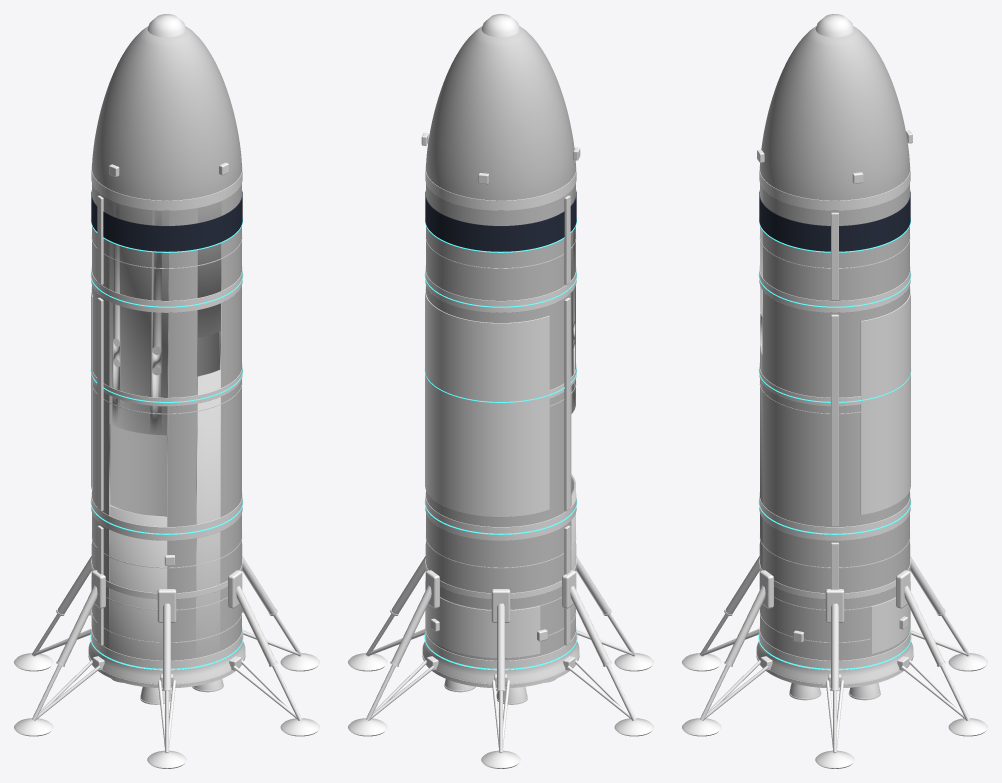
The model's file is starter_ship_46a9346_exterior.glb.
The picture shows the model from 3 angles, left to right: view 1: azimuth 30°, elevation 25°; view 2: azimuth 150°, elevation 25°; view 3: azimuth 270°, elevation 25°; orthographic projection.
Parts seen in each view (by area): view 1: Hull.001, Nose.001, SolarBand.001, AftSkirt.001, SteelBand.008, SteelBand.010, SteelBand.011, Raceway.010, SteelBand.006, SteelBand.009, SteelBand.007, LegStrut_body.009 (+11 smaller); view 2: Hull.001, RadiatorTiles.001, Nose.001, AftTilesBack.001, SolarBand.001, AftSkirt.001, SteelBand.008, SteelBand.010, SteelBand.011, Raceway.010, SteelBand.006, SteelBand.007 (+12 smaller); view 3: Hull.001, Nose.001, RadiatorTiles.001, SolarBand.001, AftSkirt.001, SteelBand.008, SteelBand.010, Raceway.007, SteelBand.011, AftTilesBack.001, SteelBand.006, SteelBand.009 (+12 smaller).
Part boxes in pixels (x1=…): Hull.001: x1=92, y1=180, x2=241, y2=660; Nose.001: x1=92, y1=26, x2=241, y2=200; SolarBand.001: x1=91, y1=190, x2=242, y2=251; AftSkirt.001: x1=88, y1=636, x2=245, y2=688; SteelBand.008: x1=91, y1=492, x2=242, y2=540; SteelBand.010: x1=91, y1=266, x2=242, y2=312; SteelBand.011: x1=91, y1=165, x2=242, y2=210; Raceway.010: x1=97, y1=297, x2=103, y2=511; SteelBand.006: x1=91, y1=626, x2=242, y2=669; SteelBand.009: x1=92, y1=363, x2=242, y2=406; SteelBand.007: x1=91, y1=558, x2=242, y2=599; LegStrut_body.009: x1=57, y1=585, x2=97, y2=664; Hull.001: x1=426, y1=180, x2=575, y2=660; RadiatorTiles.001: x1=425, y1=287, x2=549, y2=517; Nose.001: x1=426, y1=26, x2=575, y2=200; AftTilesBack.001: x1=425, y1=578, x2=540, y2=658; SolarBand.001: x1=425, y1=190, x2=576, y2=251; AftSkirt.001: x1=422, y1=636, x2=579, y2=688; SteelBand.008: x1=425, y1=492, x2=576, y2=540; SteelBand.010: x1=425, y1=266, x2=576, y2=312; SteelBand.011: x1=425, y1=165, x2=576, y2=210; Raceway.010: x1=564, y1=297, x2=570, y2=511; SteelBand.006: x1=425, y1=626, x2=576, y2=669; SteelBand.007: x1=425, y1=558, x2=576, y2=599; Hull.001: x1=760, y1=180, x2=909, y2=660; Nose.001: x1=760, y1=26, x2=909, y2=200; RadiatorTiles.001: x1=860, y1=287, x2=910, y2=514; SolarBand.001: x1=759, y1=190, x2=910, y2=251; AftSkirt.001: x1=756, y1=636, x2=913, y2=688; SteelBand.008: x1=759, y1=492, x2=910, y2=540; SteelBand.010: x1=759, y1=266, x2=910, y2=312; Raceway.007: x1=831, y1=314, x2=838, y2=526; SteelBand.011: x1=759, y1=165, x2=910, y2=210; AftTilesBack.001: x1=871, y1=576, x2=910, y2=654; SteelBand.006: x1=759, y1=626, x2=910, y2=669; SteelBand.009: x1=759, y1=363, x2=860, y2=406.
Size of the model in its own units: 18.5 by 39.95 by 16.3.
